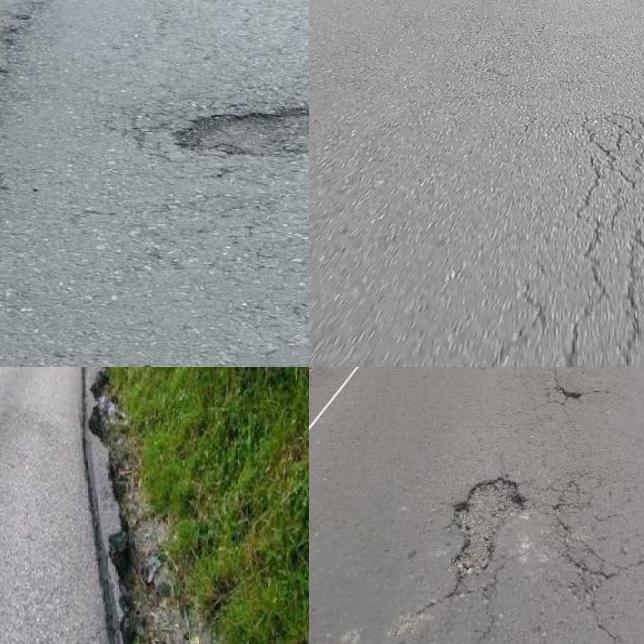Lubang: (453, 483, 529, 589), (179, 105, 309, 163)
Pinggir: (75, 367, 189, 644)
Retak Buaya: (477, 129, 644, 367)
